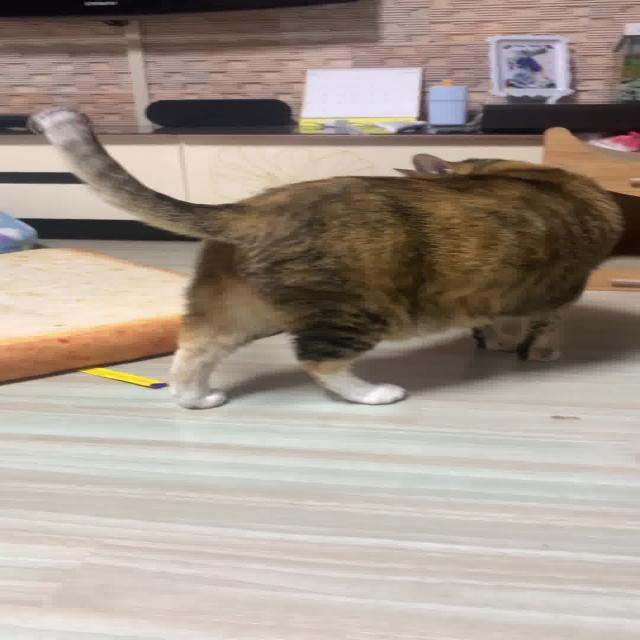cat: (26, 100, 630, 410)
